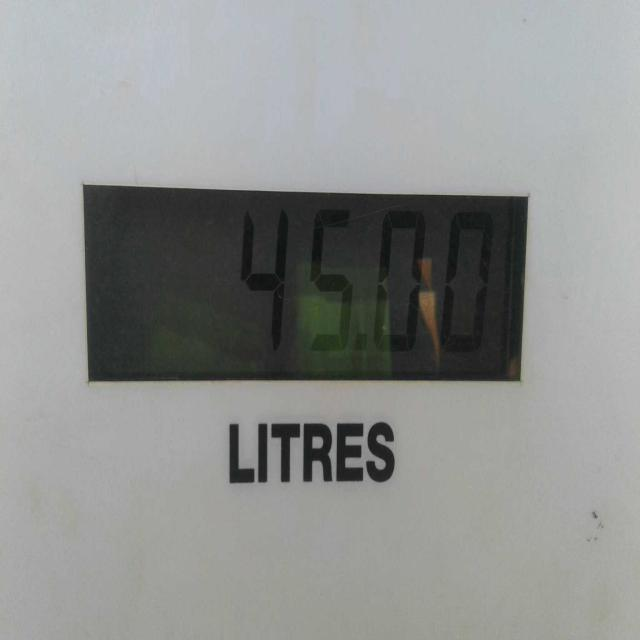.: (350, 321, 375, 367)
0: (372, 209, 434, 363), (442, 220, 504, 370)
4: (231, 206, 295, 369)
5: (306, 198, 359, 366)
